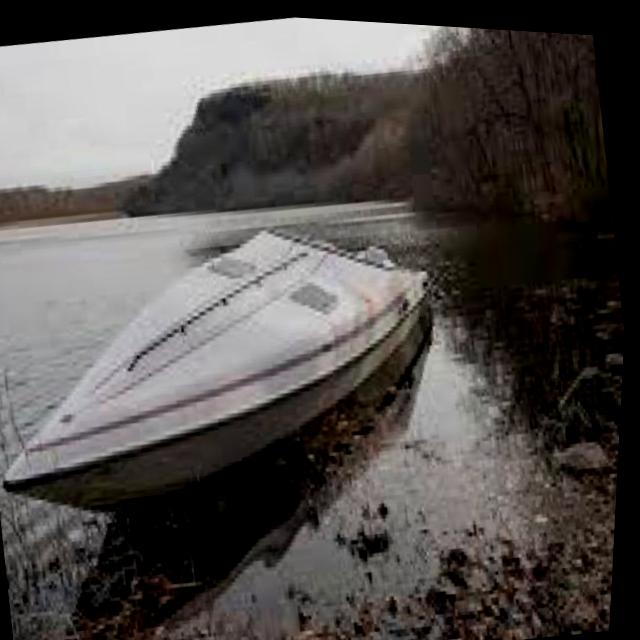ship2: (10, 230, 433, 516)
